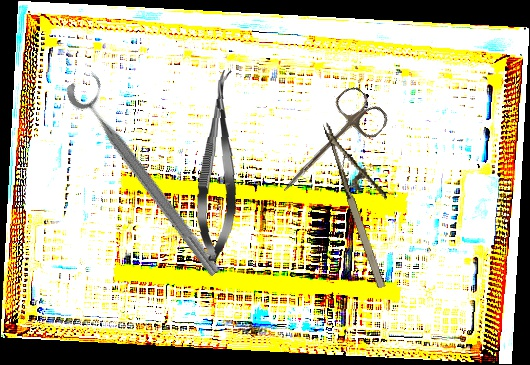Fixation Ring: (61, 67, 237, 282)
Iris Scissors: (265, 81, 393, 212)
Micro Scissor: (194, 69, 243, 262)
Needle Holder: (322, 111, 412, 291)
